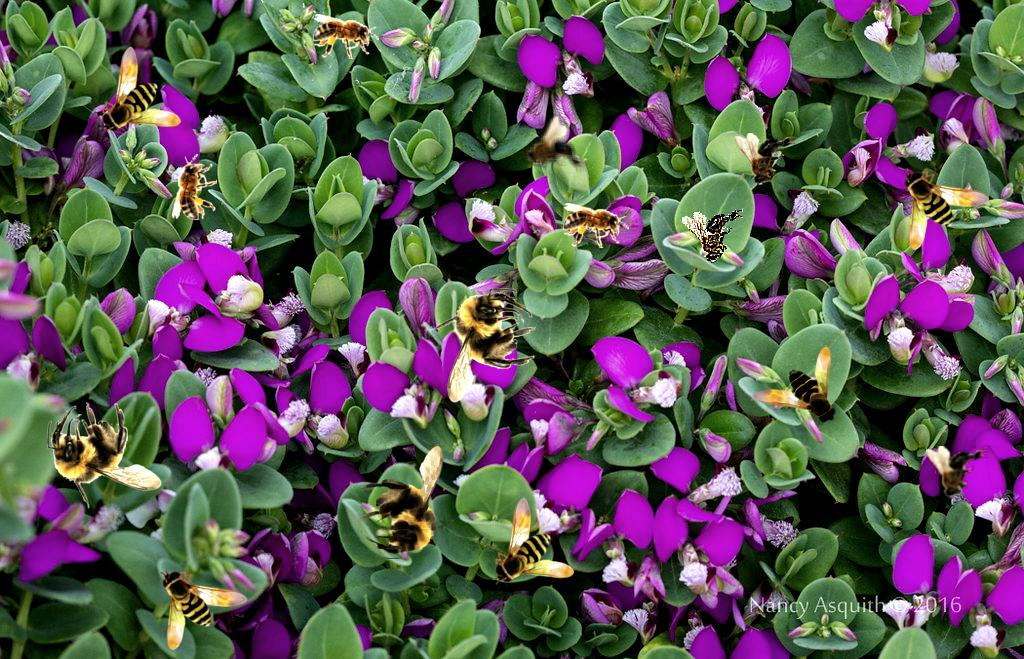Bee: (429, 288, 536, 403), (47, 402, 162, 509), (356, 444, 463, 559), (492, 497, 574, 585), (902, 168, 990, 250), (751, 345, 839, 427), (160, 568, 248, 650), (99, 46, 181, 134), (513, 112, 590, 192), (681, 205, 750, 267), (926, 446, 988, 499), (735, 133, 797, 186), (313, 14, 379, 59), (172, 154, 217, 220), (563, 203, 629, 248)
